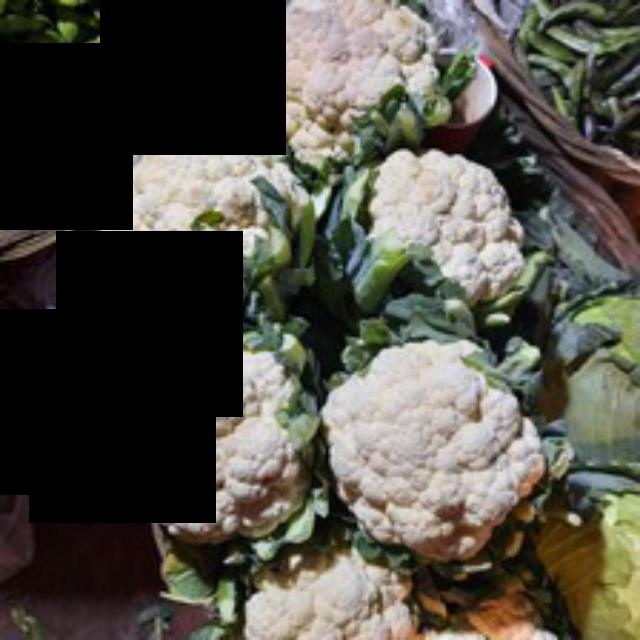cauliflower: (83, 122, 334, 328)
